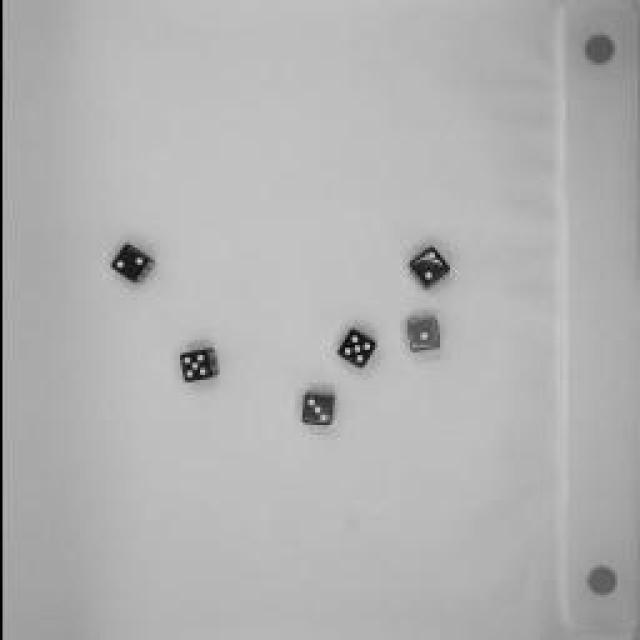dice_1: (398, 312, 442, 356)
dice_2: (104, 238, 154, 288), (402, 246, 452, 294)
dice_3: (294, 385, 336, 430)
dice_5: (170, 340, 220, 390), (331, 323, 379, 375)
